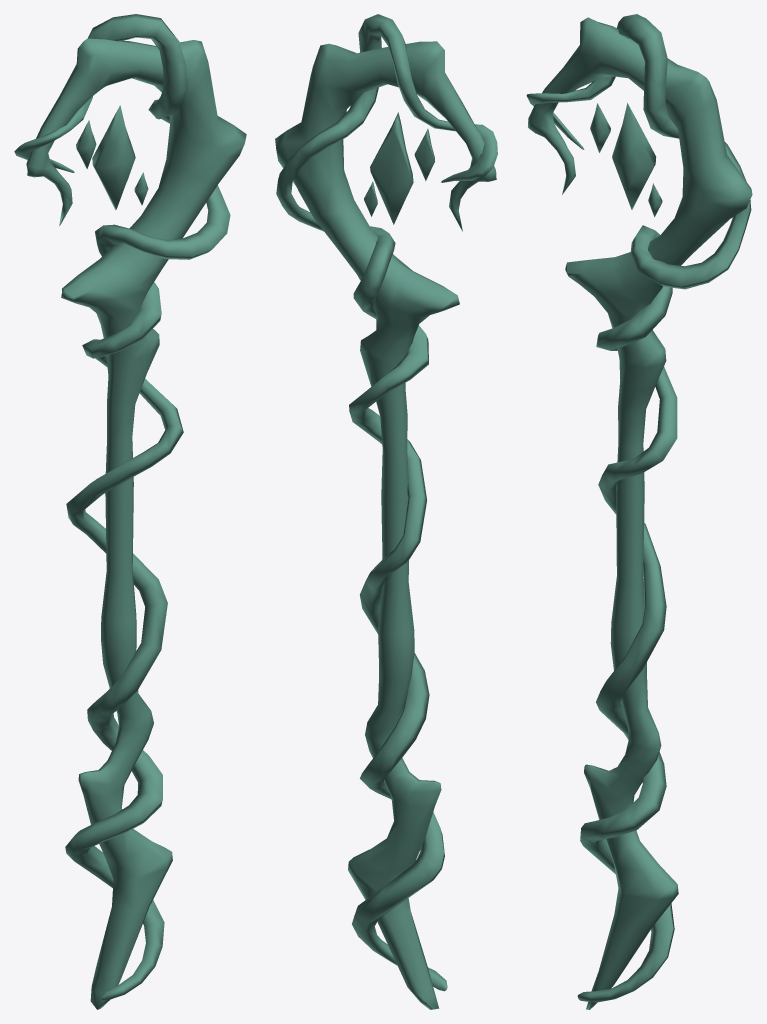
File: SM_DRYAD_STAFF.fbx
3 renders of one model, left to right at view 1: azimuth 30°, elevation 25°; view 2: azimuth 150°, elevation 25°; view 3: azimuth 330°, elevation 25°, orthographic.
Parts seen in each view (by area): view 1: SM_DRYAD_STAFF; view 2: SM_DRYAD_STAFF; view 3: SM_DRYAD_STAFF.
Boxes of the visible parts, x1,y1,x2,y2 form: SM_DRYAD_STAFF: (14,14,246,1009); SM_DRYAD_STAFF: (275,14,497,1009); SM_DRYAD_STAFF: (526,14,752,1009).
Size of the model in its own units: 25.41 by 105 by 9.49.
